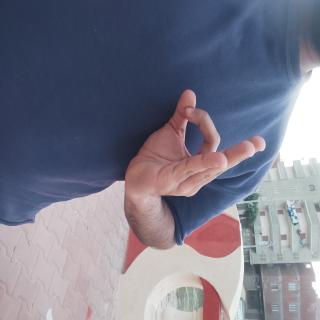Space: (63, 68, 153, 260)
